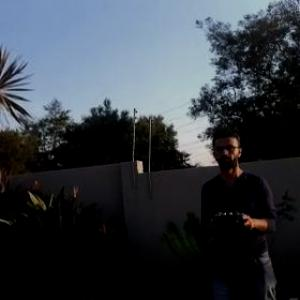follow: (194, 118, 280, 299)
